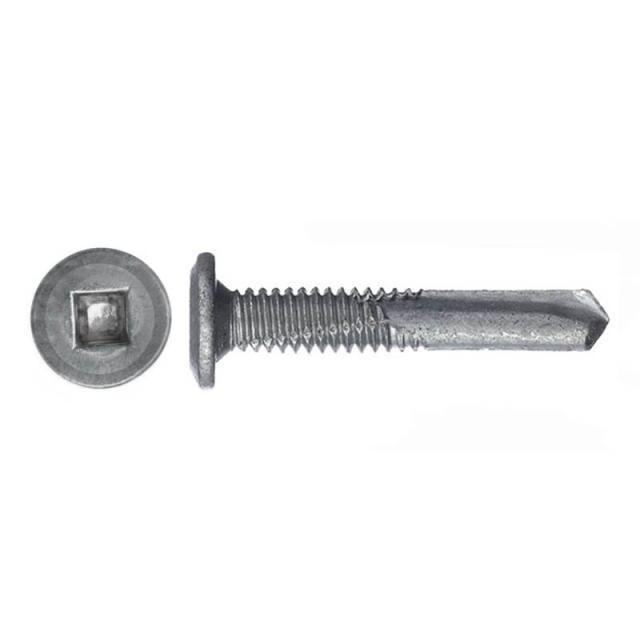Screw: (190, 253, 610, 388), (21, 239, 177, 397)
